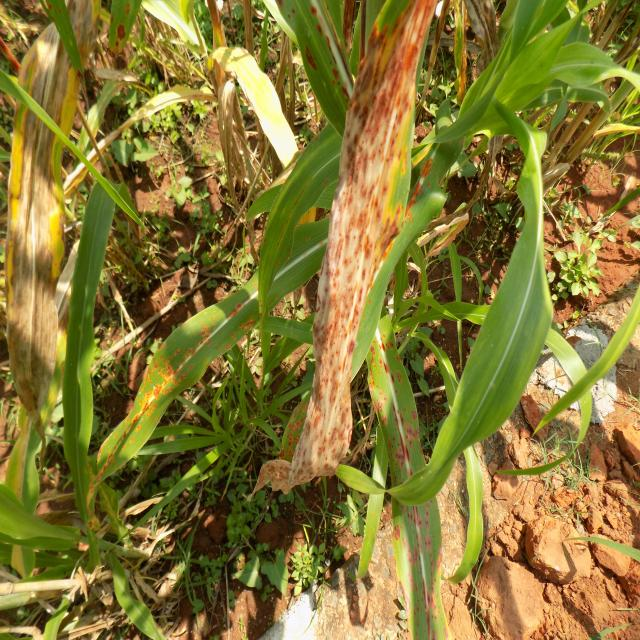millet_healthy: (340, 85, 562, 520), (56, 164, 130, 539), (447, 5, 640, 146), (250, 111, 355, 339)
millet_rust: (95, 222, 337, 499), (284, 0, 424, 471), (358, 310, 457, 640), (8, 5, 82, 417)
